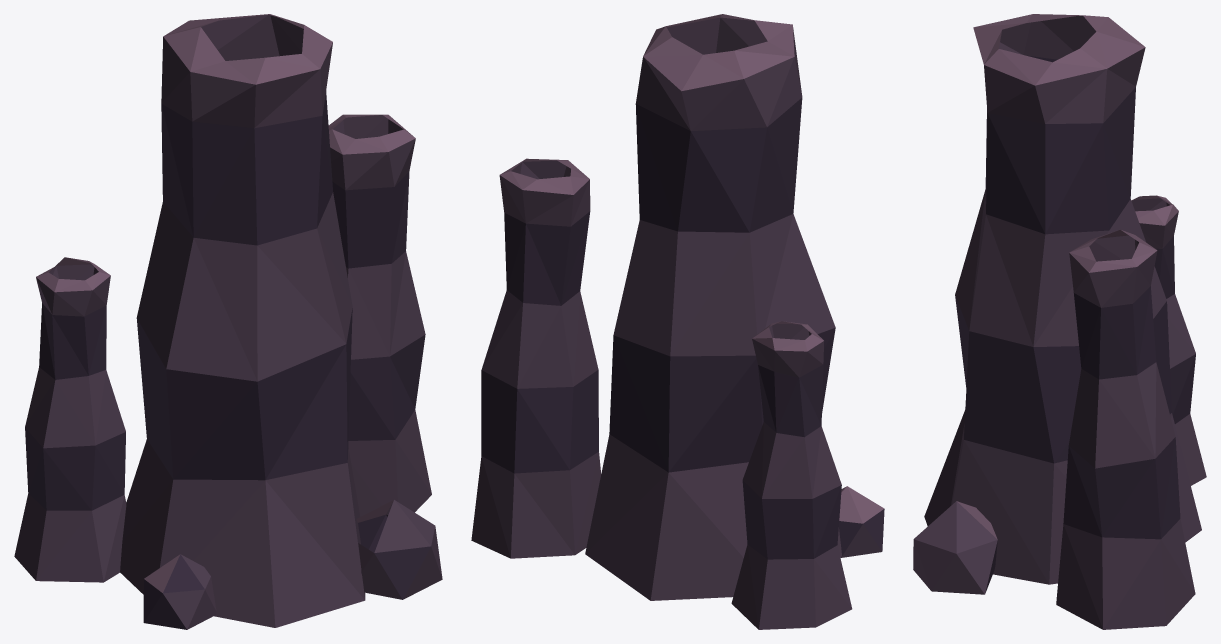
The model's file is vent_chimney.fbx.
The picture shows the model from 3 angles, left to right: view 1: azimuth 30°, elevation 25°; view 2: azimuth 150°, elevation 25°; view 3: azimuth 270°, elevation 25°; orthographic projection. The views are drawn at different scales.
Parts seen in each view (by area): view 1: vent_chimney; view 2: vent_chimney; view 3: vent_chimney.
Part boxes in pixels (<box>): vent_chimney: <box>14,14,442,629</box>; vent_chimney: <box>471,14,884,629</box>; vent_chimney: <box>913,14,1206,629</box>.
Bounding box in the file's own units: 987 × 1320 × 690.
1 material, 1 textured.
